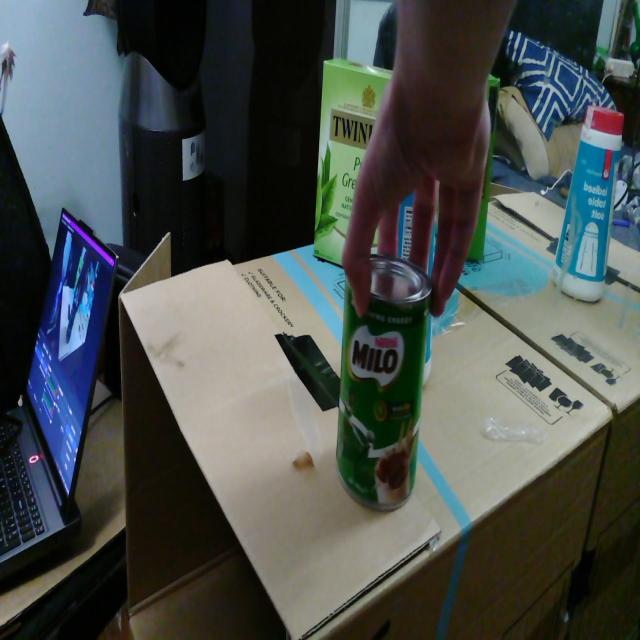nestle_milo_tin: (336, 253, 431, 510)
twinings_greentea_box: (313, 59, 393, 266), (371, 226, 378, 254)
woolworths_salt_bottle: (398, 193, 414, 260), (423, 313, 432, 385), (428, 223, 436, 278)
